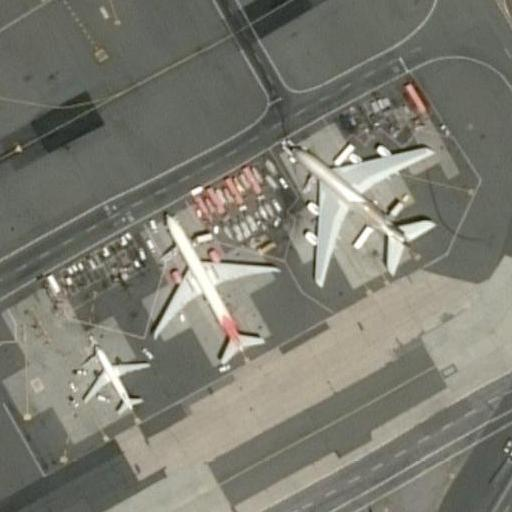Aircraft: (280, 124, 444, 288), (138, 206, 277, 369), (65, 328, 153, 416)
